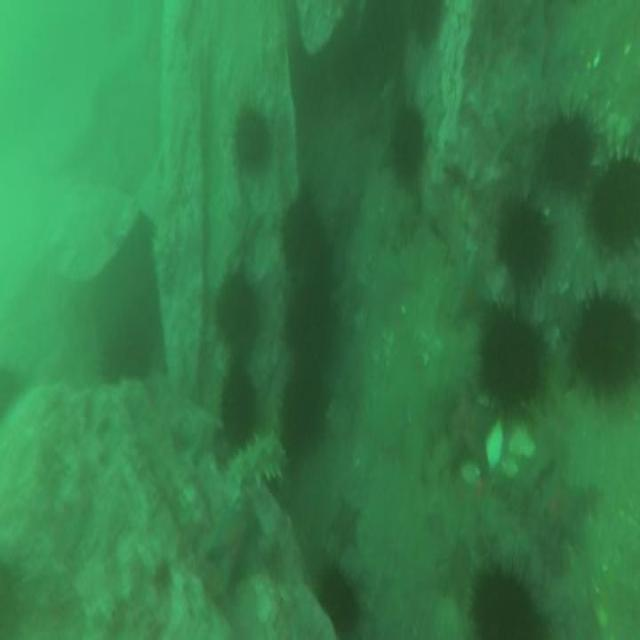echinus: (570, 292, 639, 395), (478, 308, 544, 413), (96, 308, 157, 383), (590, 157, 640, 248), (472, 570, 537, 640), (284, 272, 338, 352), (545, 112, 592, 198), (495, 194, 544, 269), (282, 368, 329, 446), (212, 278, 255, 346), (385, 109, 426, 180), (280, 200, 323, 266), (219, 368, 257, 439), (320, 575, 356, 634), (232, 111, 269, 166)
holothurian: (228, 433, 290, 477), (378, 199, 419, 250)
starfish: (204, 502, 262, 586), (444, 382, 494, 476), (542, 464, 591, 554), (448, 256, 491, 324), (226, 193, 261, 253), (327, 491, 359, 550)
